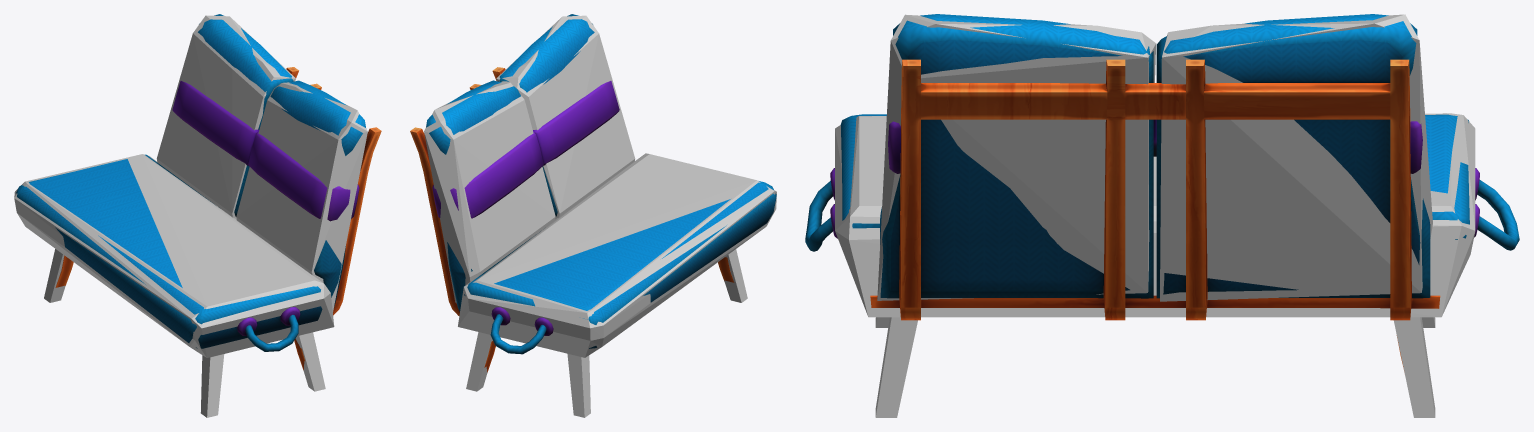
The model's file is SM_ArmChair02.fbx.
3 renders of one model, left to right at view 1: azimuth 30°, elevation 25°; view 2: azimuth 150°, elevation 25°; view 3: azimuth 270°, elevation 25°, orthographic. The views are drawn at different scales.
Parts seen in each view (by area): view 1: SM_ArmChair02_ConvexHulls, SM_ArmChair02; view 2: SM_ArmChair02_ConvexHulls, SM_ArmChair02; view 3: SM_ArmChair02, SM_ArmChair02_ConvexHulls.
Boxes of the visible parts, x1,y1,x2,y2 form: SM_ArmChair02_ConvexHulls: (14, 15, 367, 417); SM_ArmChair02: (16, 14, 381, 370); SM_ArmChair02_ConvexHulls: (424, 15, 776, 417); SM_ArmChair02: (410, 14, 776, 372); SM_ArmChair02: (805, 14, 1519, 366); SM_ArmChair02_ConvexHulls: (835, 14, 1475, 417).
Bounding box in the file's own units: 89.36 × 156 × 105.
2 materials, 1 textured.
